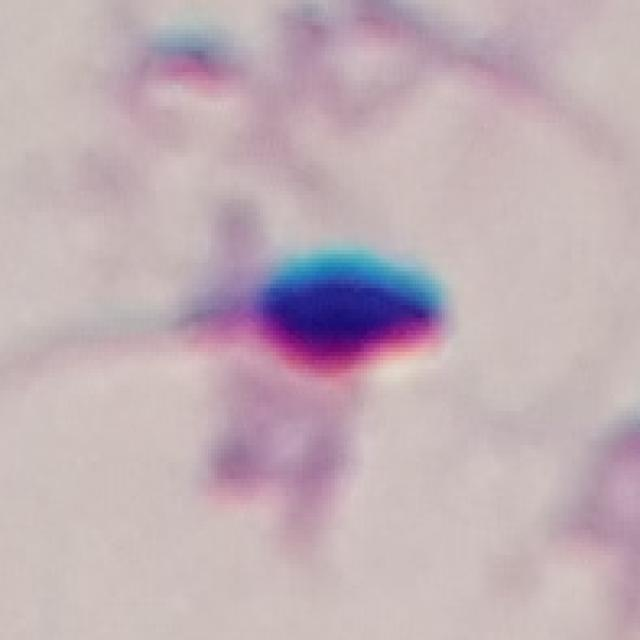abnormal sperm: (33, 229, 460, 396)
